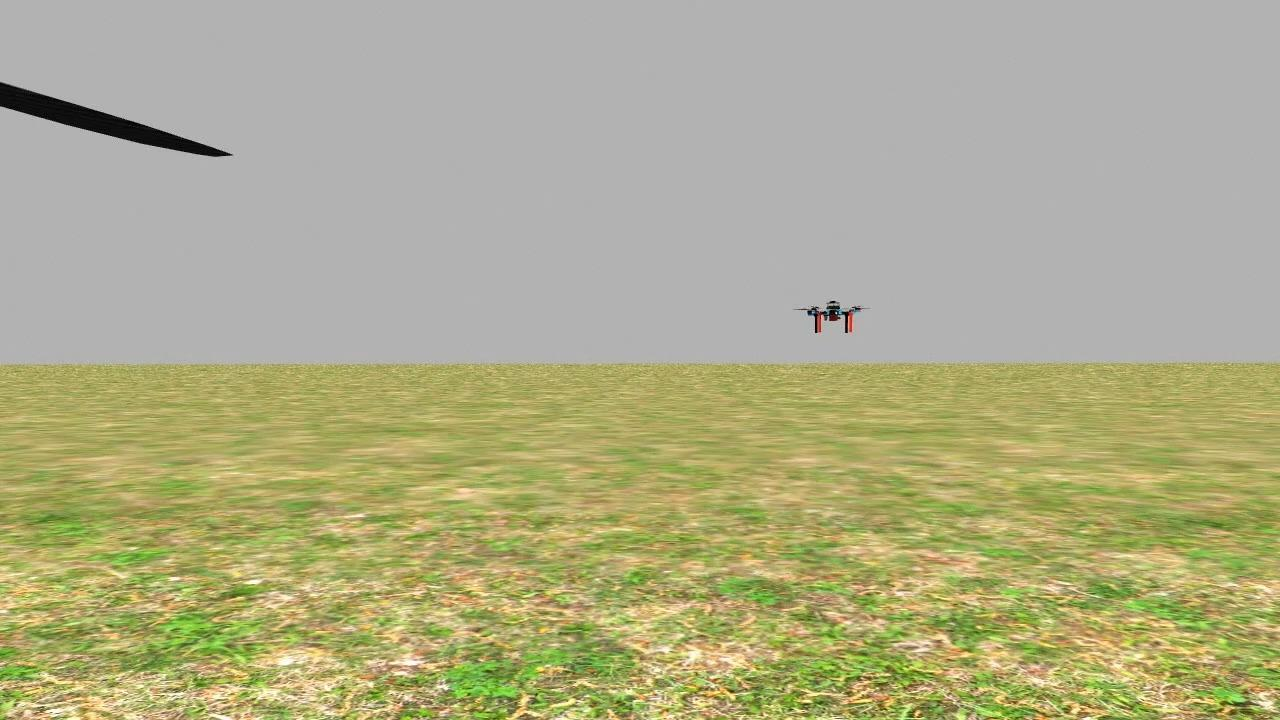UAV: (798, 274, 871, 349)
